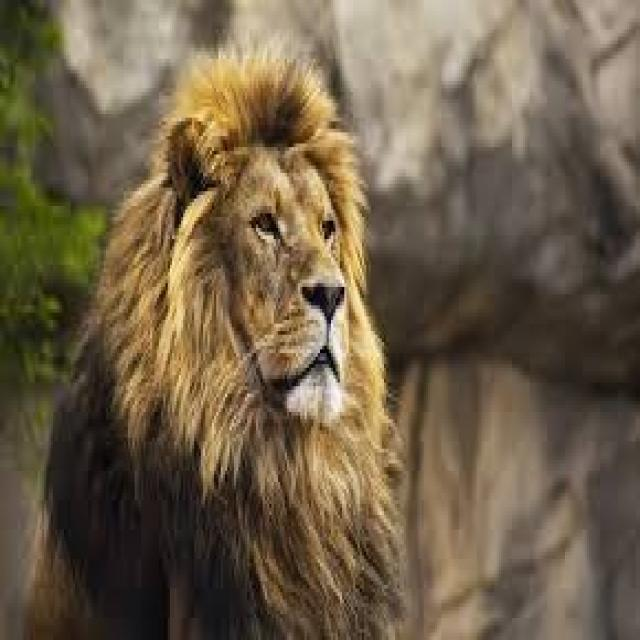Lion: (19, 43, 411, 636)
